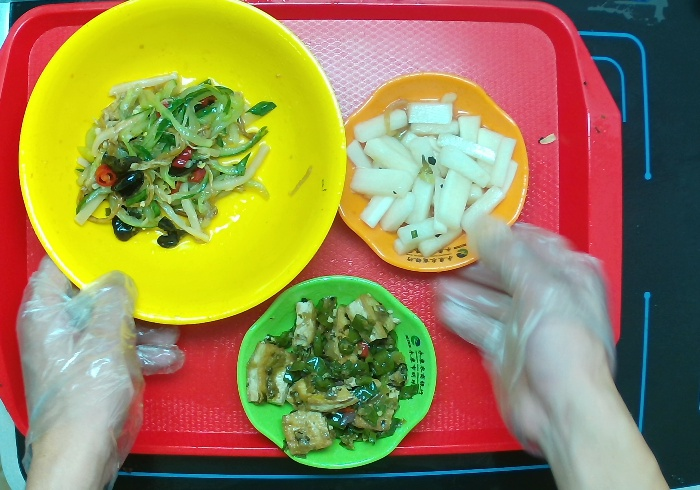YKMZ-Huang_Se_Tang_Wan: (13, 1, 352, 332)
YKMZ-Ju_Se_Ao_Bian_Wan: (331, 65, 540, 282)
YKMZ-Lv_Se_Ao_Bian_Wan: (229, 266, 444, 478)
